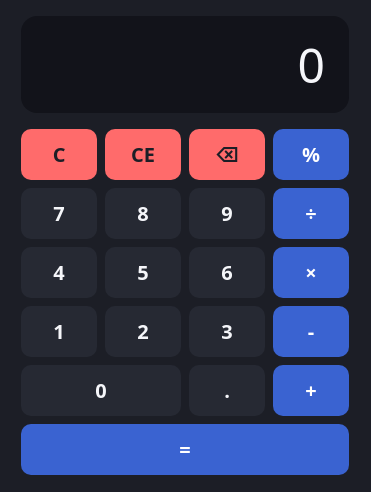
Scenario: App — correcting mistakes (User Story 2) › clear-all resets the whole calculation
Click the button "4": (59, 272) [21,247,97,298]
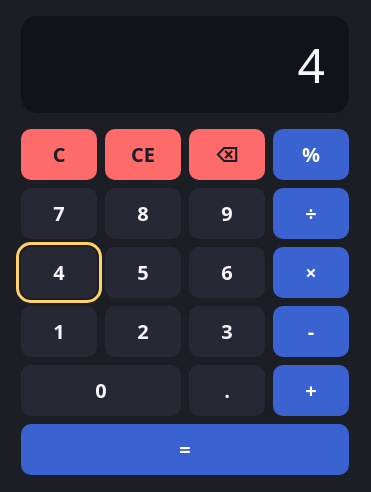
Click the button "5": (143, 272) [105,247,181,298]
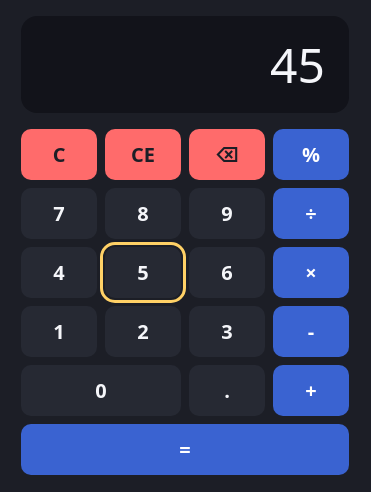
Click the button named "Add": (311, 390) [273,365,349,416]
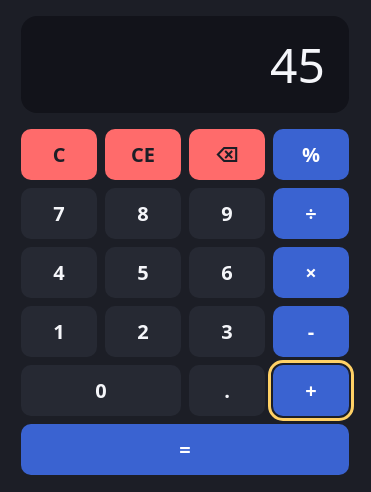
Click the button named "Clear all": (59, 154) [21,129,97,180]
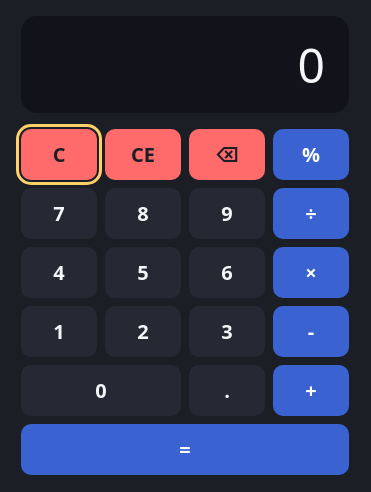
Now the message named "Calculator display" reads "0", box [298,32,325,97]
